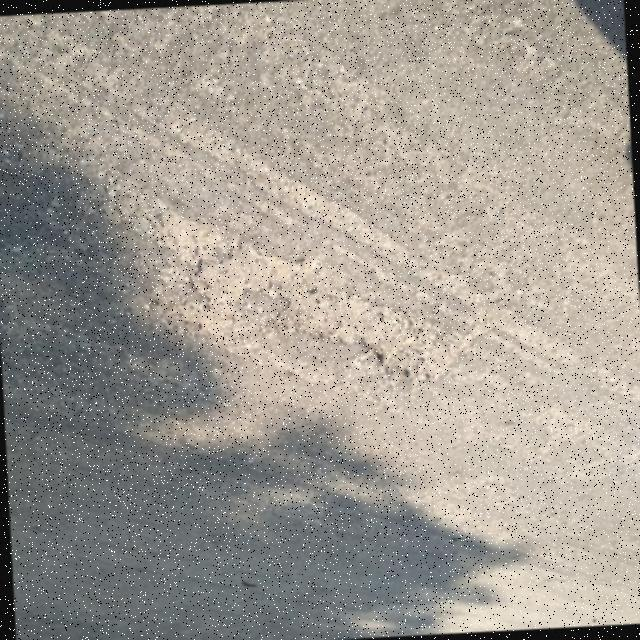Pothole: (4, 145, 438, 377)
